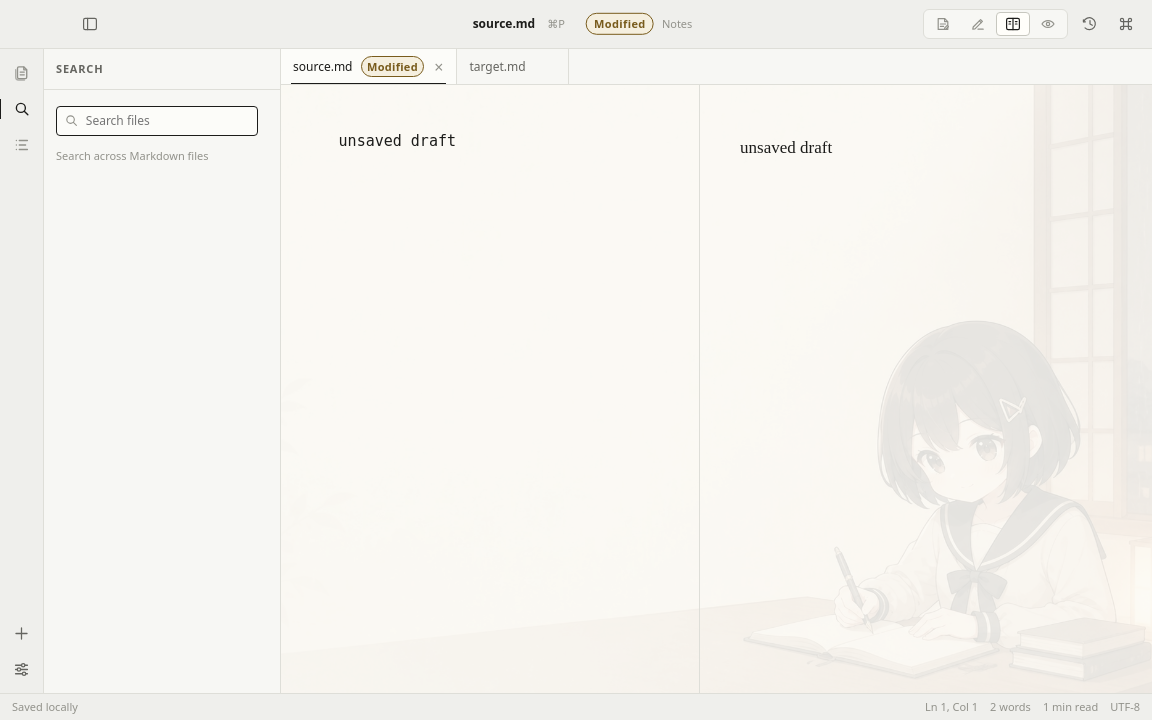
Scenario: App search navigation › invalidates history replacement when its target changes: workspace
Click the button named "File history" at (1090, 24), box top-left (1076, 10), bottom-right (1104, 38)
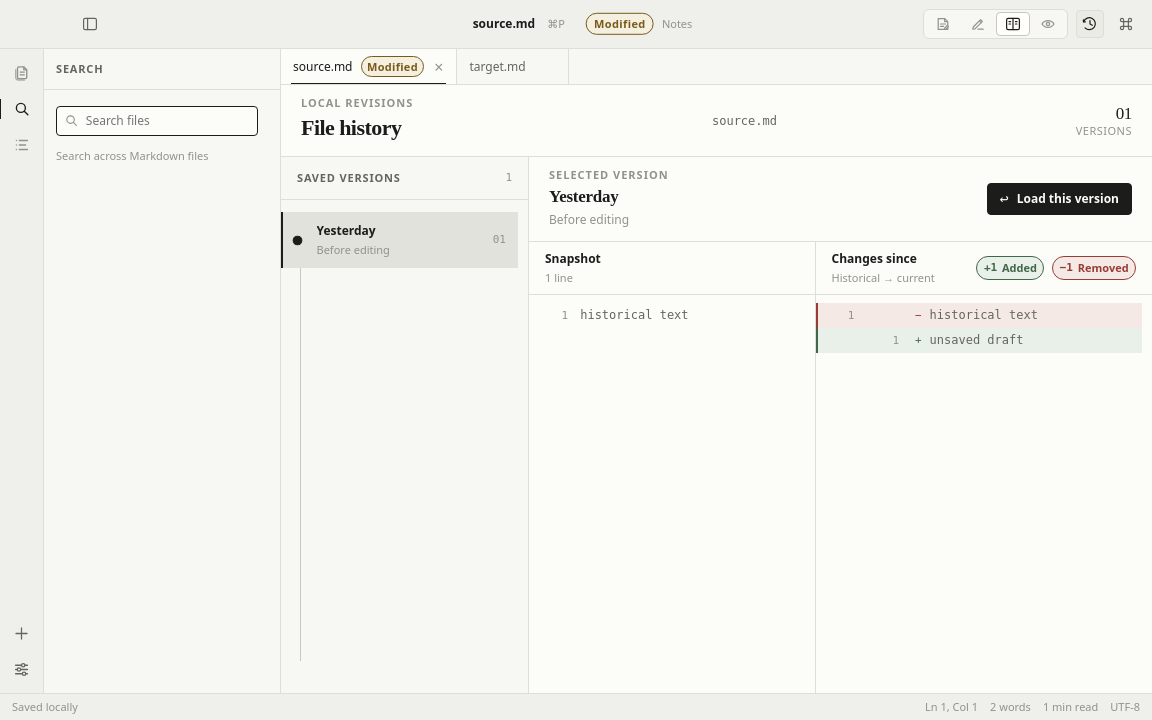
Click the button with aria-label "Load this version: Yesterday" at (1059, 199), box top-left (987, 183), bottom-right (1132, 215)
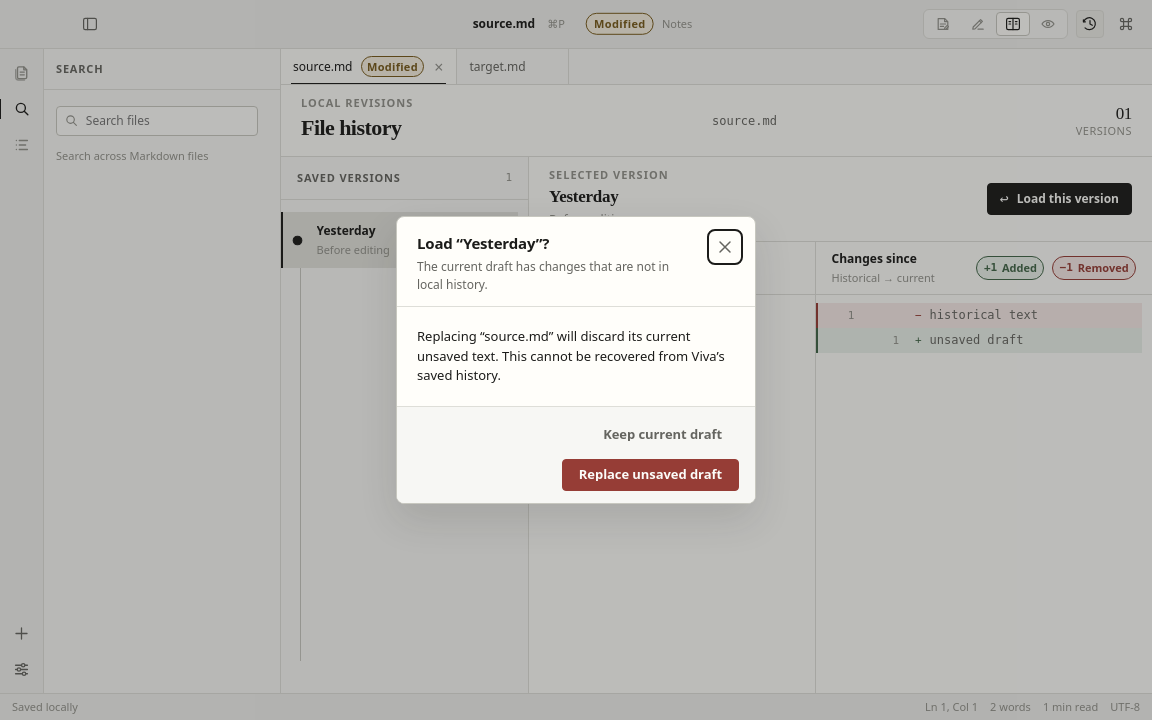
Expected: the dialog "Load “Yesterday”?" is shown, top-left (396, 216), bottom-right (756, 504)
